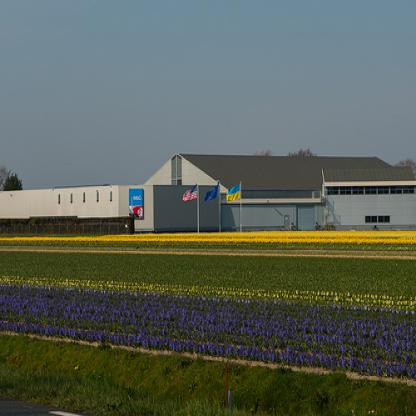TULIP: (16, 252, 410, 378)
